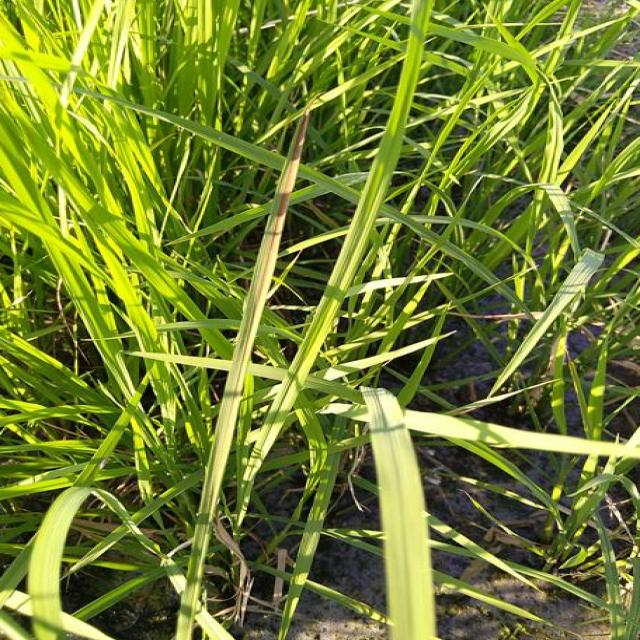Leaf Streak: (199, 118, 309, 530)
